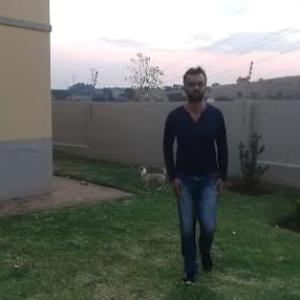follow: (160, 62, 226, 287)
